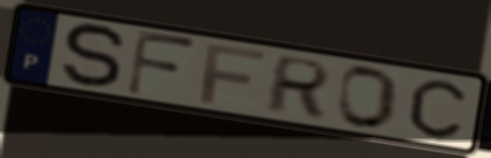C: (407, 78, 469, 142)
F: (123, 26, 199, 99), (197, 41, 268, 106)
O: (335, 64, 402, 131)
R: (260, 53, 335, 120)
S: (60, 21, 130, 90)
